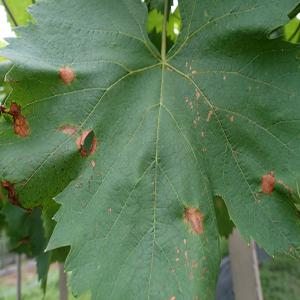Folha: (1, 1, 300, 300)
Fungo: (165, 231, 212, 300), (183, 58, 215, 152), (212, 194, 234, 238), (7, 100, 29, 138), (74, 128, 98, 158), (182, 205, 204, 235), (1, 178, 19, 206), (260, 168, 276, 196), (59, 65, 75, 85), (57, 123, 79, 137), (277, 178, 293, 195), (79, 145, 87, 157), (206, 108, 212, 122), (194, 87, 200, 100), (91, 159, 95, 169), (229, 114, 234, 121), (189, 100, 193, 108), (200, 130, 204, 137), (184, 95, 188, 102), (192, 119, 196, 126), (108, 206, 112, 212), (197, 115, 200, 121), (196, 109, 199, 115)
